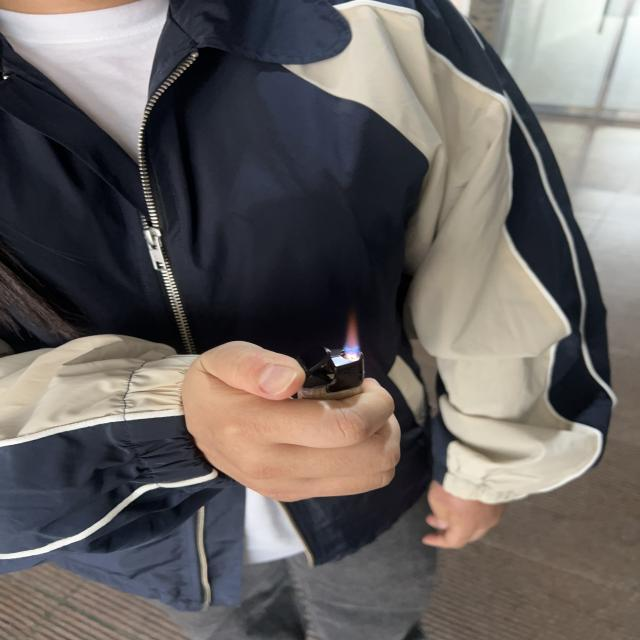fire: (344, 314, 360, 352)
